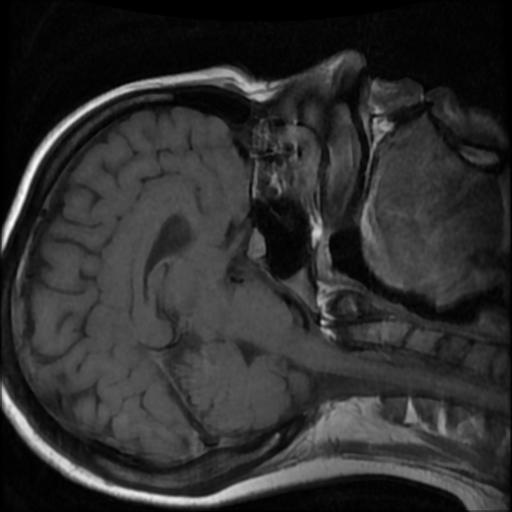pituitary tumour: (249, 226, 269, 261)
